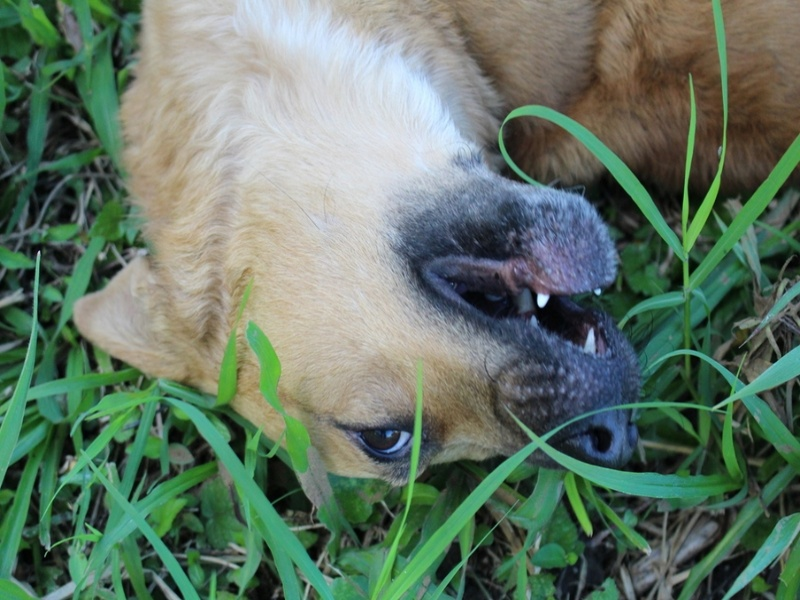dog: (46, 1, 798, 503)
